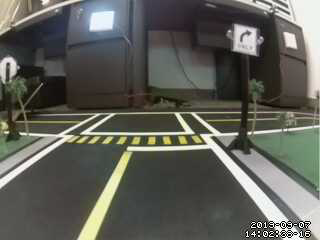Right_only_sign: (230, 23, 260, 59)
